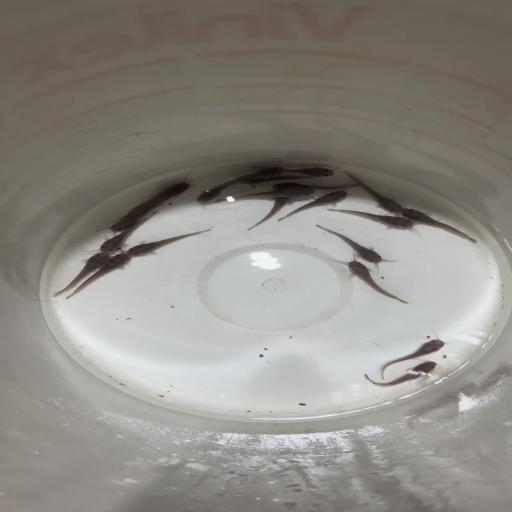lele: (66, 252, 132, 305), (312, 221, 391, 265), (333, 259, 410, 304), (375, 335, 449, 380), (47, 252, 111, 299), (399, 206, 478, 244), (338, 168, 403, 213), (356, 358, 441, 390), (96, 210, 159, 252), (126, 229, 214, 259), (323, 206, 411, 234), (276, 191, 350, 224), (103, 200, 165, 232), (134, 178, 194, 210), (214, 186, 316, 204), (243, 197, 289, 232), (248, 162, 338, 177), (191, 179, 237, 206), (267, 180, 363, 191), (238, 176, 310, 190), (229, 166, 287, 180)
